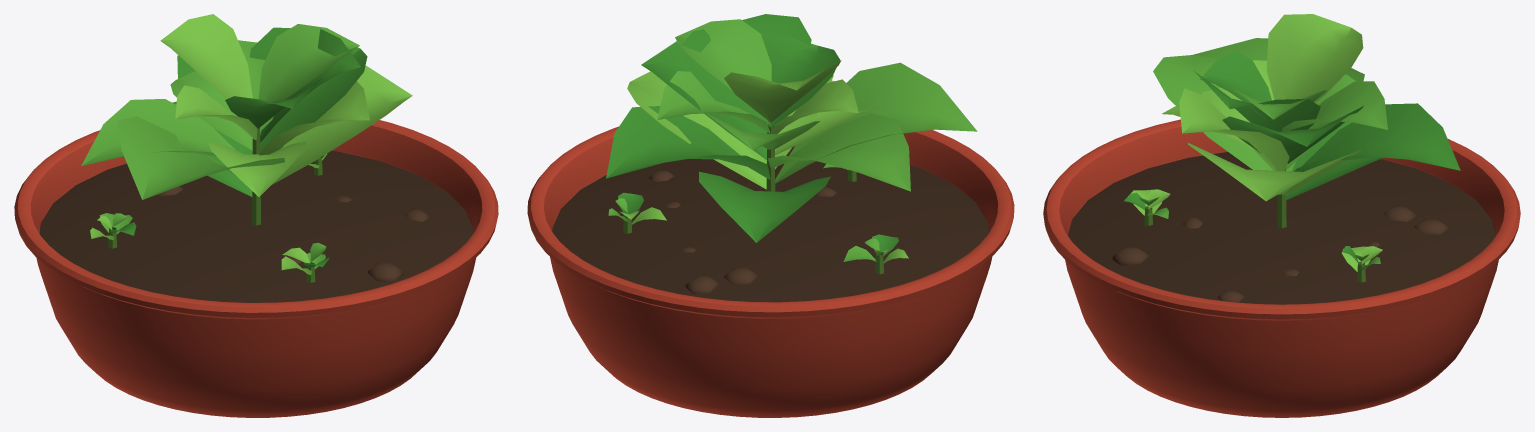
The model's file is item-13.glb.
3 renders of one model, left to right at view 1: azimuth 30°, elevation 25°; view 2: azimuth 150°, elevation 25°; view 3: azimuth 270°, elevation 25°, orthographic. The views are drawn at different scales.
Parts seen in each view (by area): view 1: pan, soil, plant, sprout.002, sprout.001, soil_l.005; view 2: pan, plant, soil, sprout.001, sprout, soil_l; view 3: pan, soil, plant, sprout.002, sprout, soil_l.005.
Part boxes in pixels (x1,y1,x2,y2): pan: [14, 120, 498, 417]; soil: [39, 150, 473, 302]; plant: [81, 14, 412, 225]; sprout.002: [281, 242, 329, 282]; sprout.001: [90, 213, 136, 248]; soil_l.005: [367, 263, 403, 282]; pan: [527, 126, 1014, 417]; plant: [606, 14, 977, 242]; soil: [552, 146, 989, 302]; sprout.001: [843, 234, 908, 274]; sprout: [608, 192, 666, 233]; soil_l: [685, 276, 718, 293]; pan: [1043, 119, 1520, 417]; soil: [1068, 152, 1495, 304]; plant: [1153, 14, 1460, 228]; sprout.002: [1124, 189, 1170, 225]; sprout: [1341, 246, 1382, 282]; soil_l.005: [1112, 247, 1148, 265].
Bounding box in the file's own units: 0.356 × 0.2468 × 0.356.
